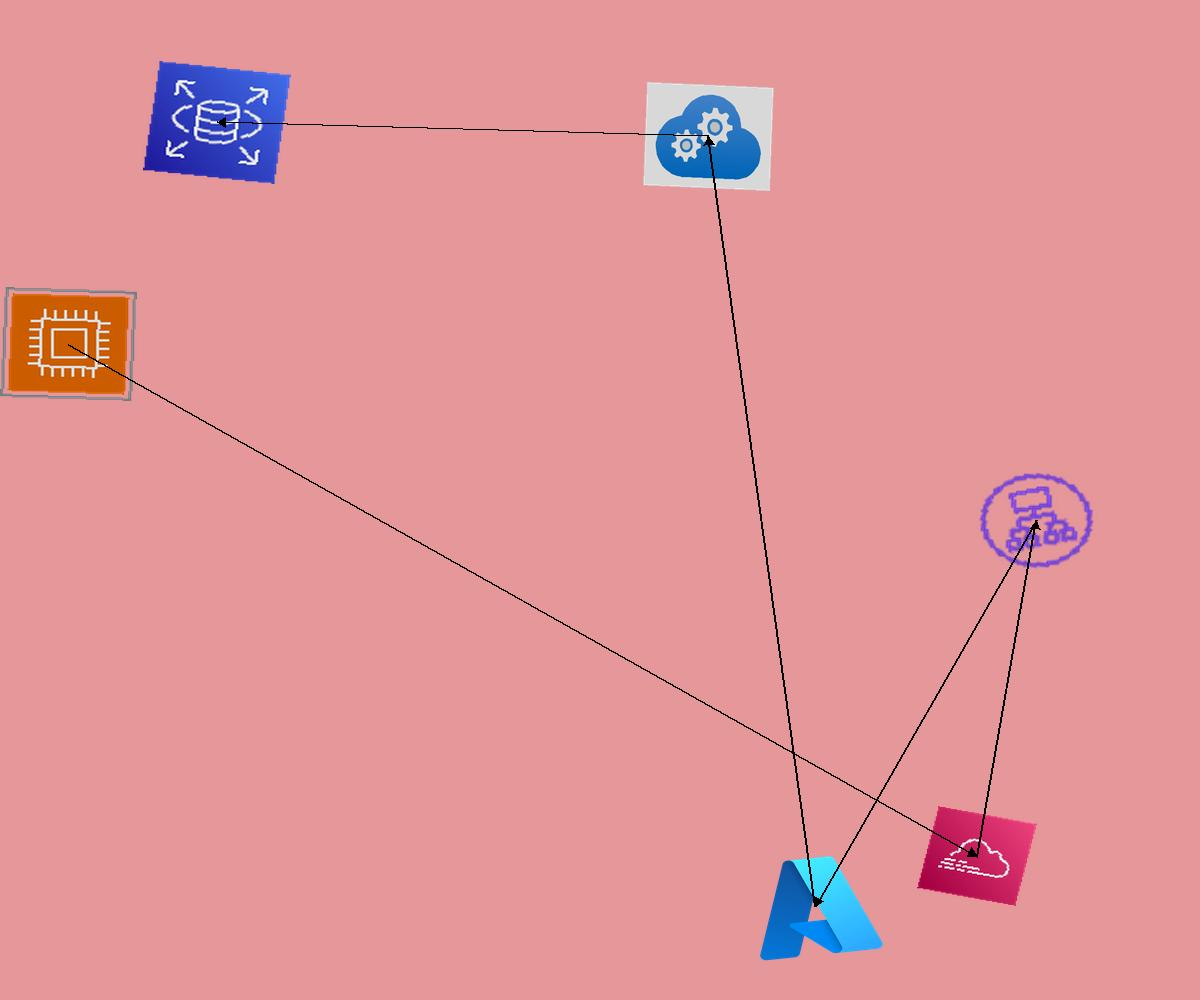AWS-Category_Compute: (0, 287, 137, 401)
AWS-CloudTrail: (917, 806, 1037, 906)
AWS-RDS: (143, 61, 291, 184)
AWS-Res_Elastic-Load-Balancing_Application-Load-Balancer: (963, 459, 1110, 582)
Azure_cloud_services: (643, 82, 774, 191)
Azure_services: (740, 844, 890, 969)
